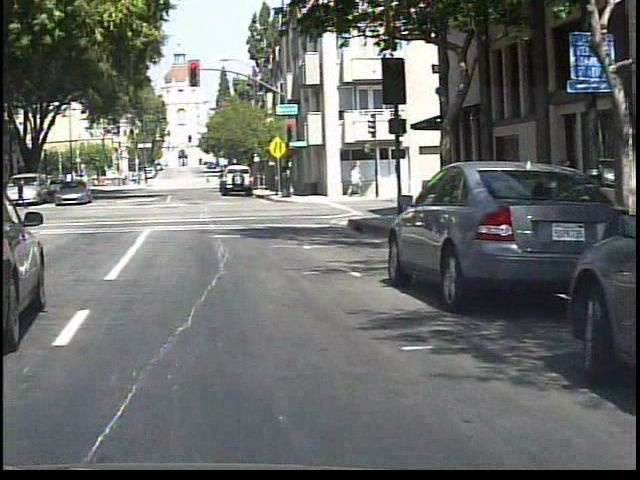person: (17, 172, 25, 213), (202, 173, 217, 190), (2, 175, 3, 212)
